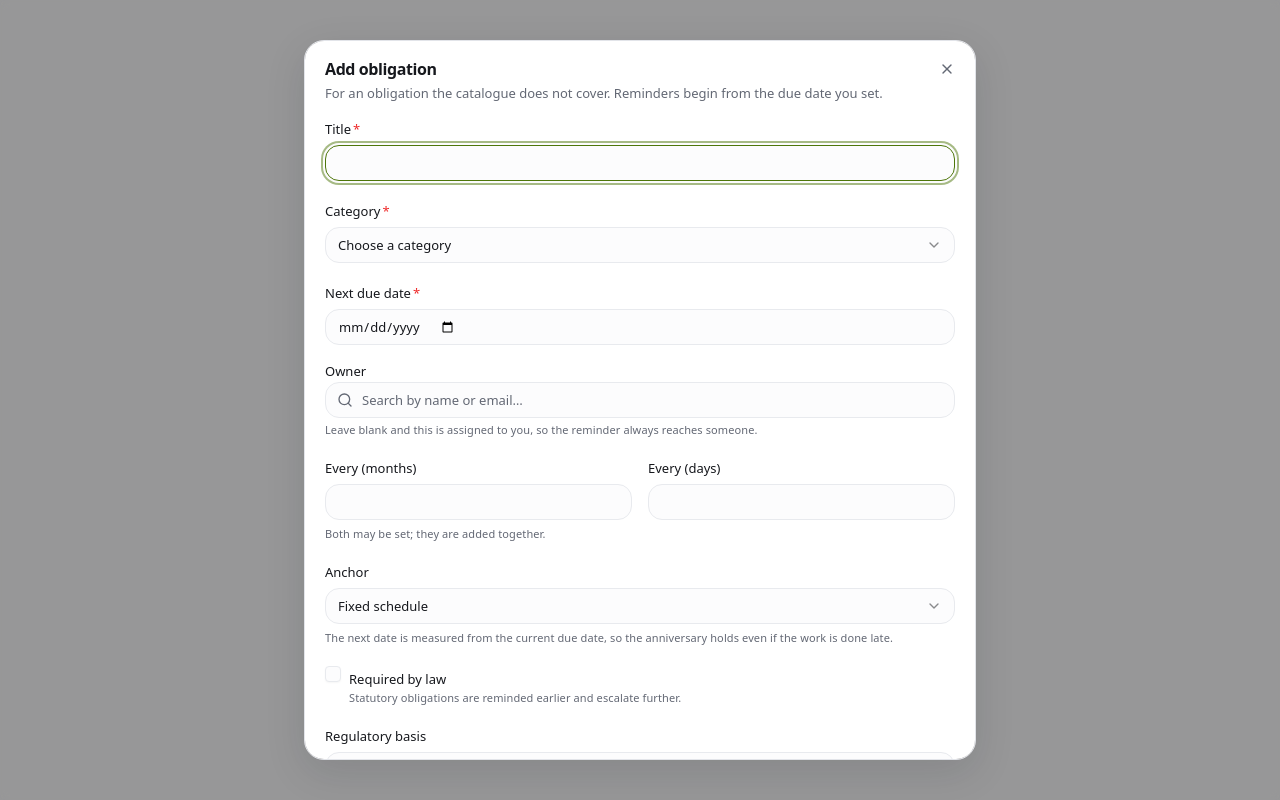
Test: RequirementFormDialog — create › shows the API failure in the form instead of losing the typed work
Type "Sprinkler service" into the field with test id "requirement-form-title-input" at x=640, y=163, box x1=325 y1=145 x2=955 y2=181
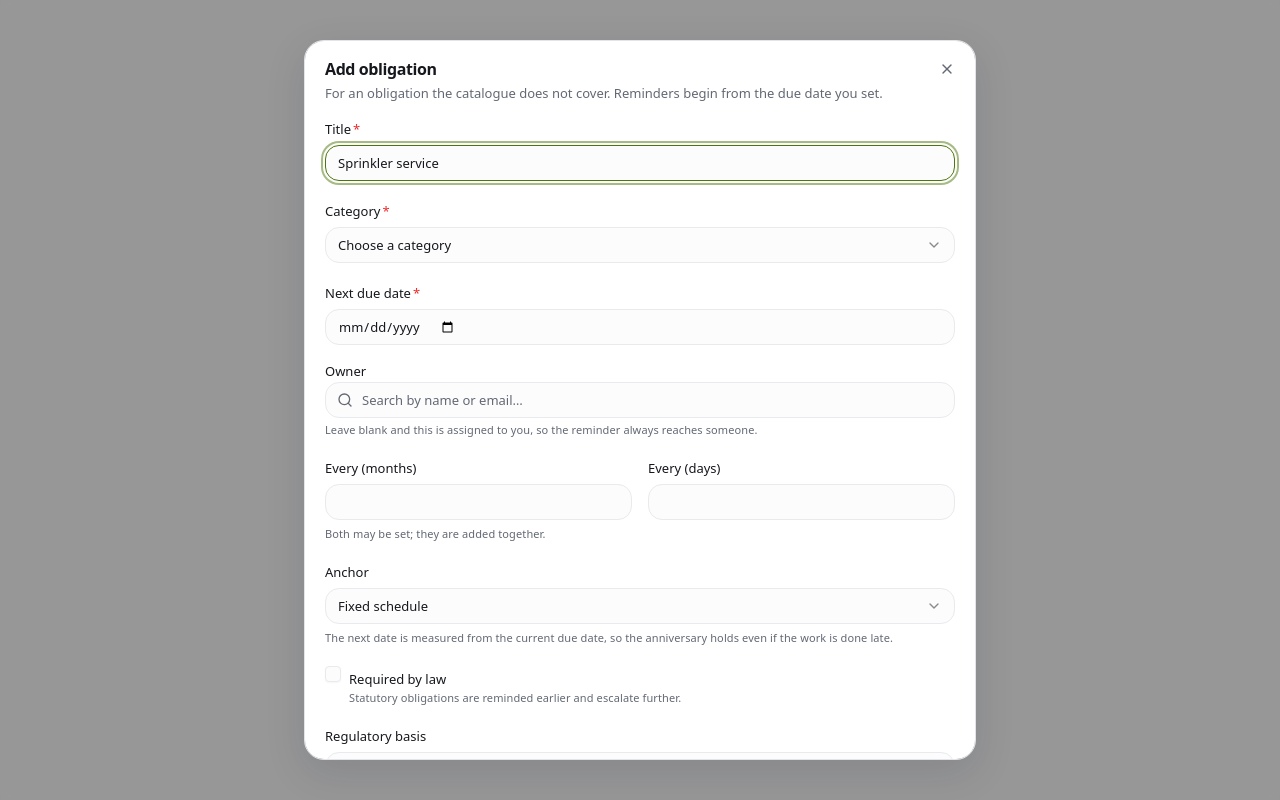
Click the dropdown with test id "requirement-form-taxonomy-trigger" at x=395, y=245, box x1=325 y1=227 x2=955 y2=263
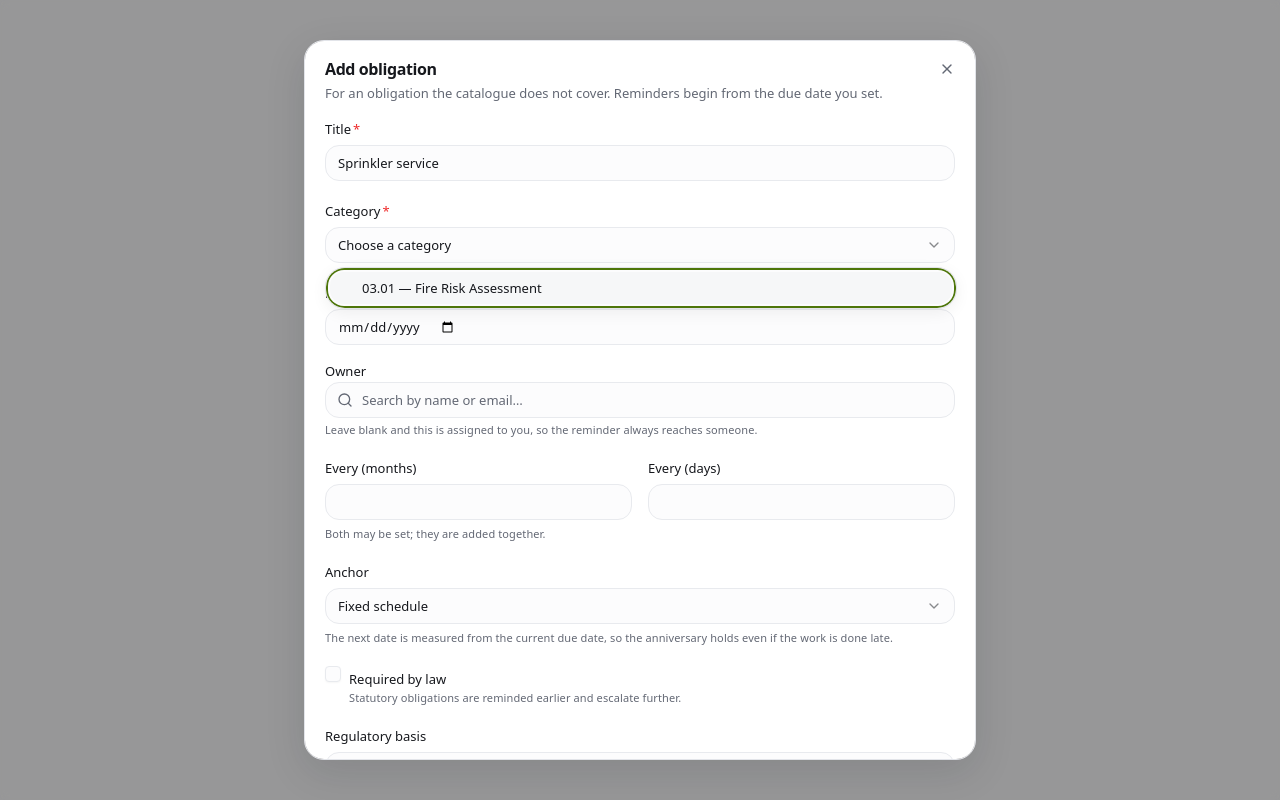
Click the option "03.01 — Fire Risk Assessment" at x=379, y=288, box x1=330 y1=272 x2=952 y2=304
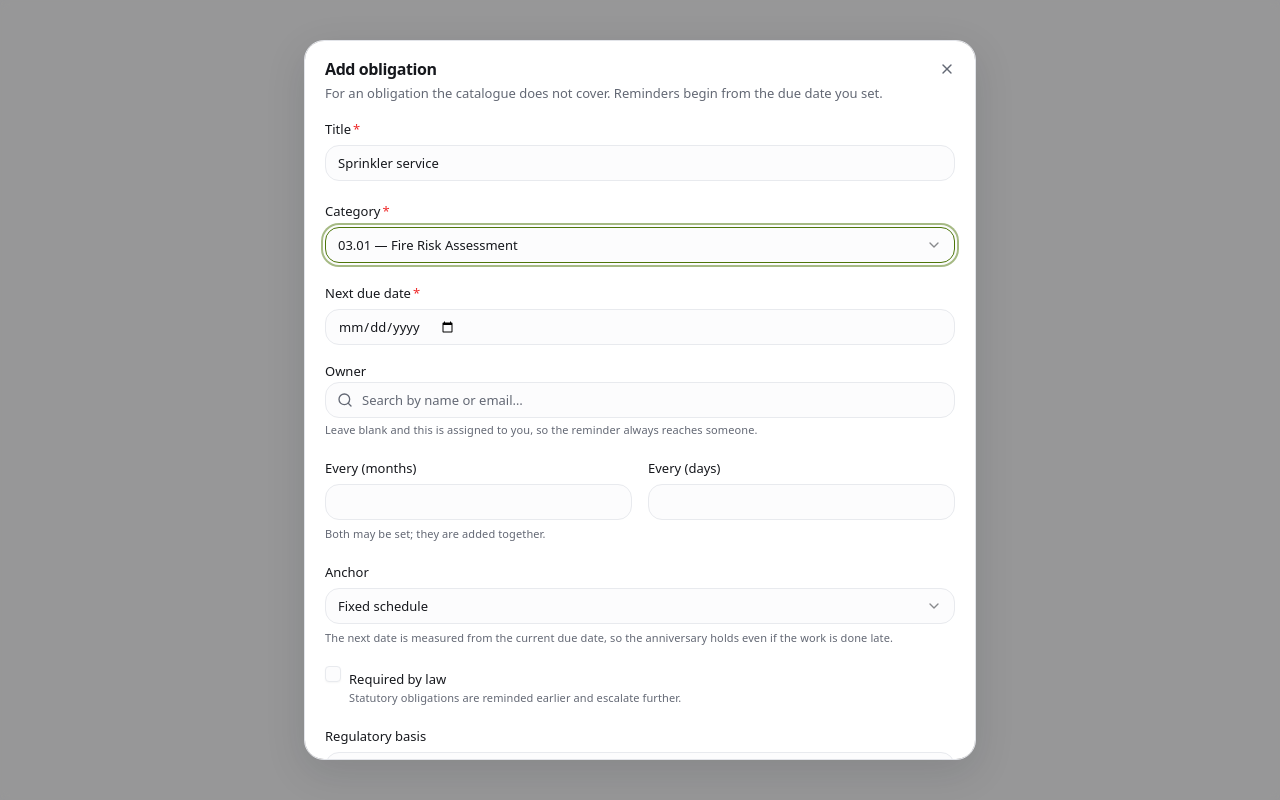
Type "2027-03-01" into the date field with test id "requirement-form-next-due-input" at x=640, y=327, box x1=325 y1=309 x2=955 y2=345
(page scrolled)
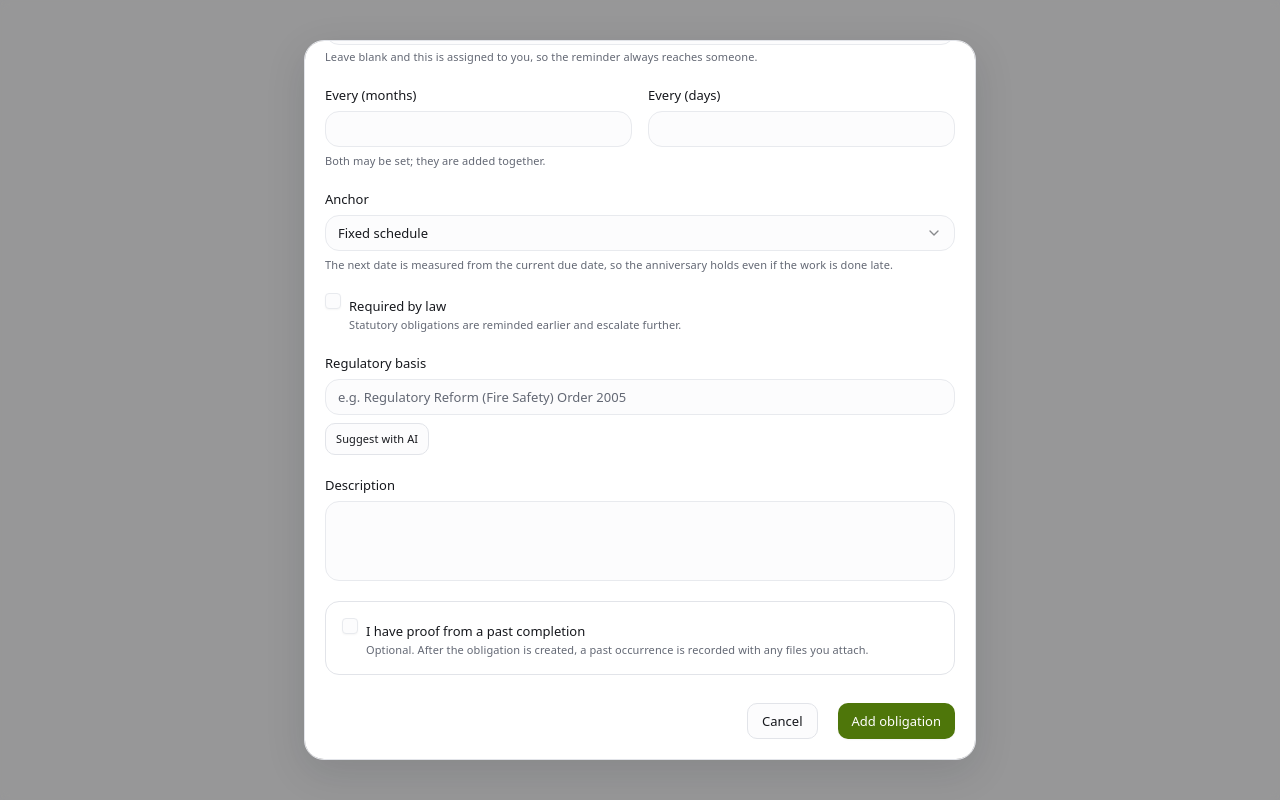
Click the button with test id "requirement-form-submit" at x=896, y=721, box x1=838 y1=703 x2=955 y2=739
(page scrolled)
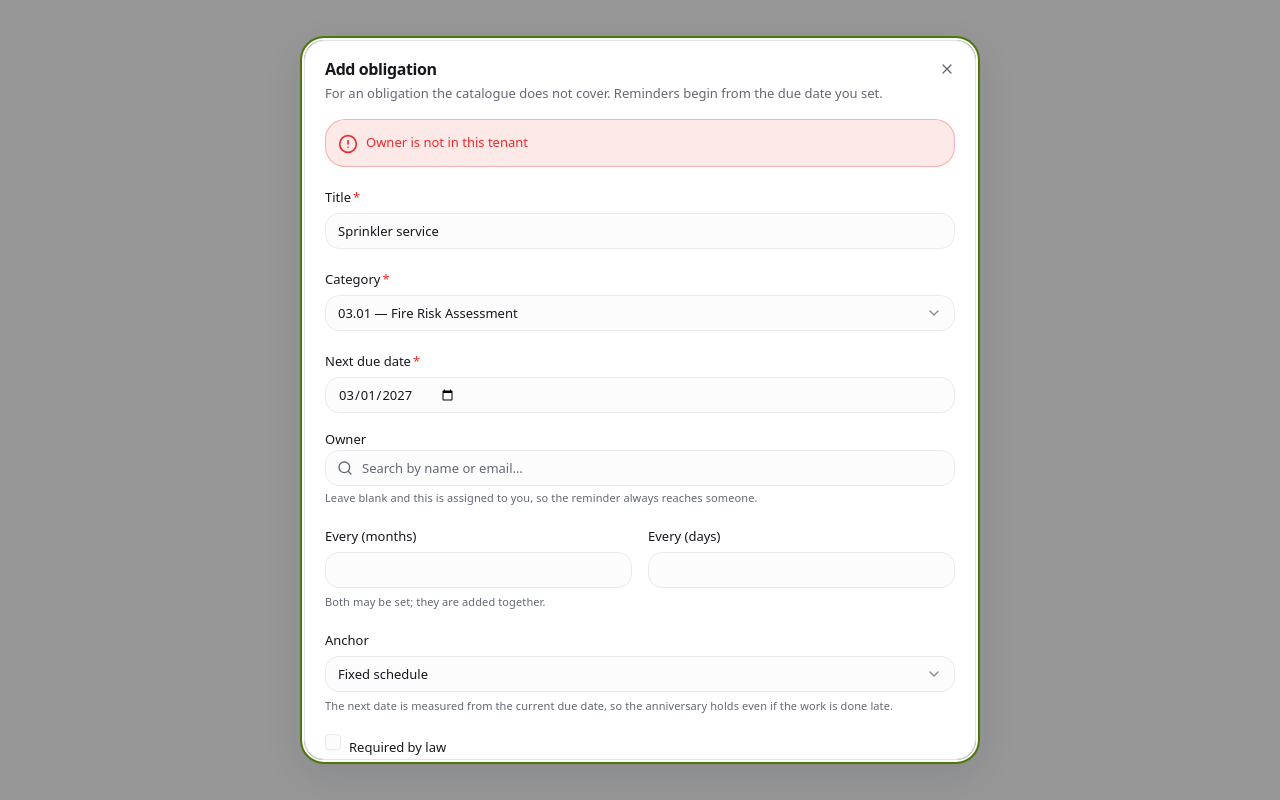
Now the message with test id "requirement-form-error" reads "Owner is not in this tenant", box x1=366 y1=133 x2=528 y2=151
